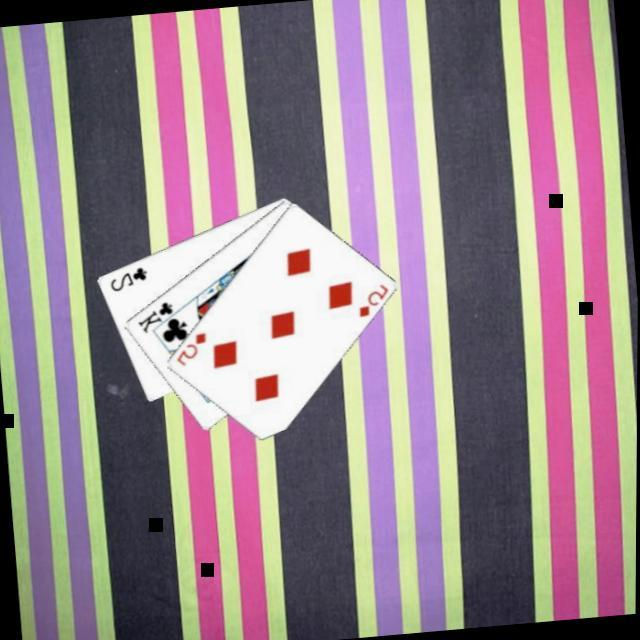2C: (107, 262, 152, 294)
5D: (354, 279, 395, 320), (173, 327, 212, 368)
KC: (134, 295, 187, 335)
